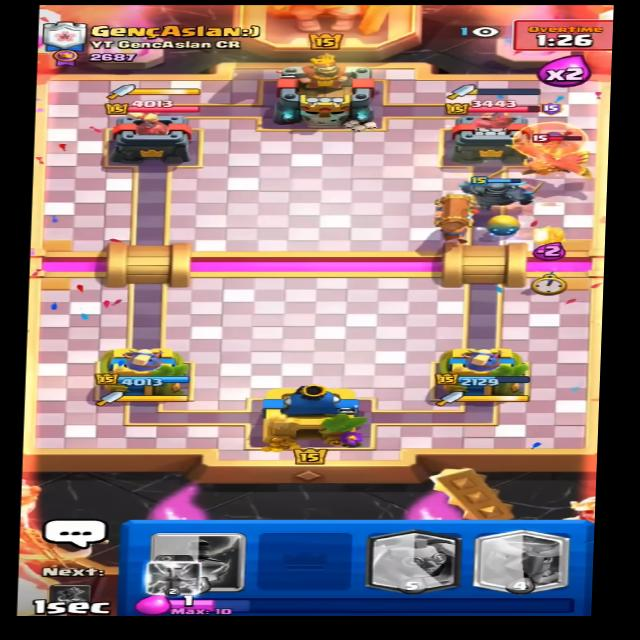evo-wizard: (508, 112, 595, 161)
phoenix: (497, 134, 599, 185)
